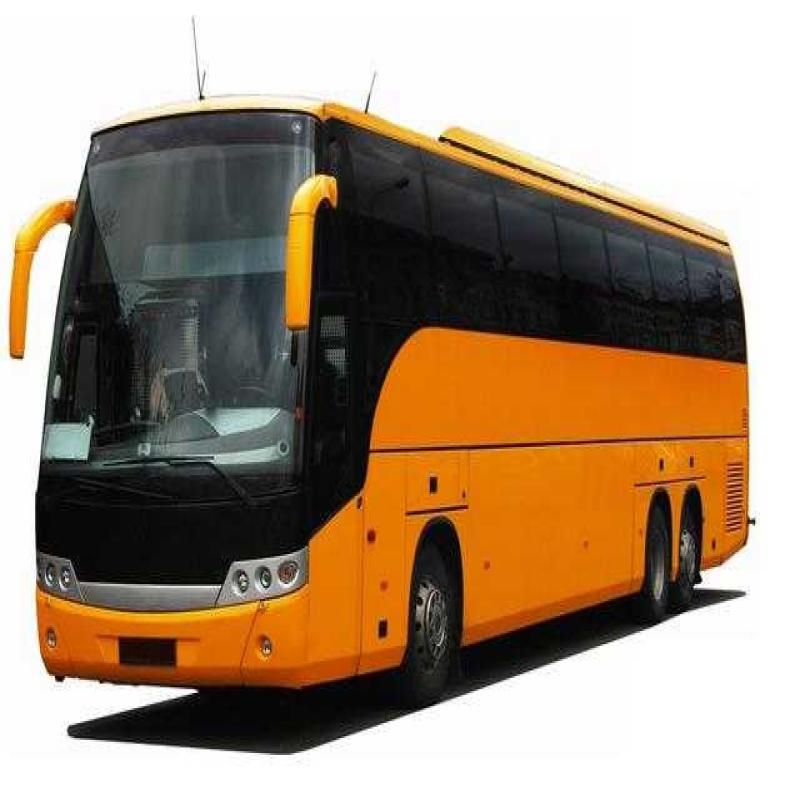bus: (28, 60, 765, 731)
